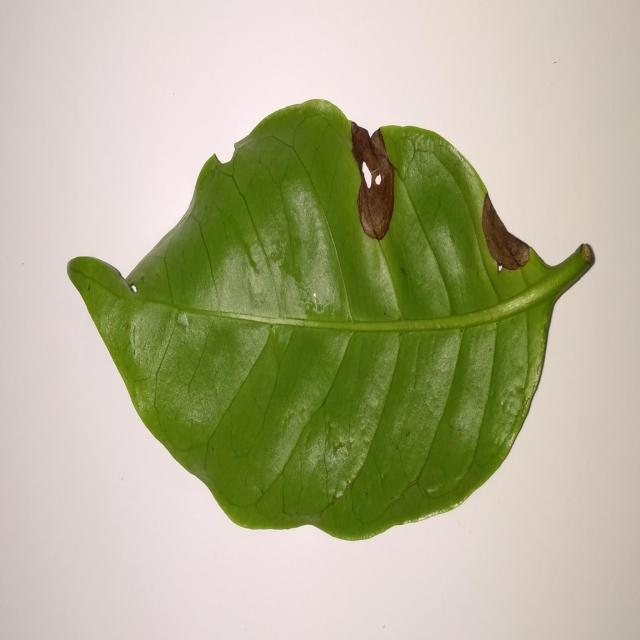phoma: (482, 189, 540, 301), (351, 122, 395, 241)
